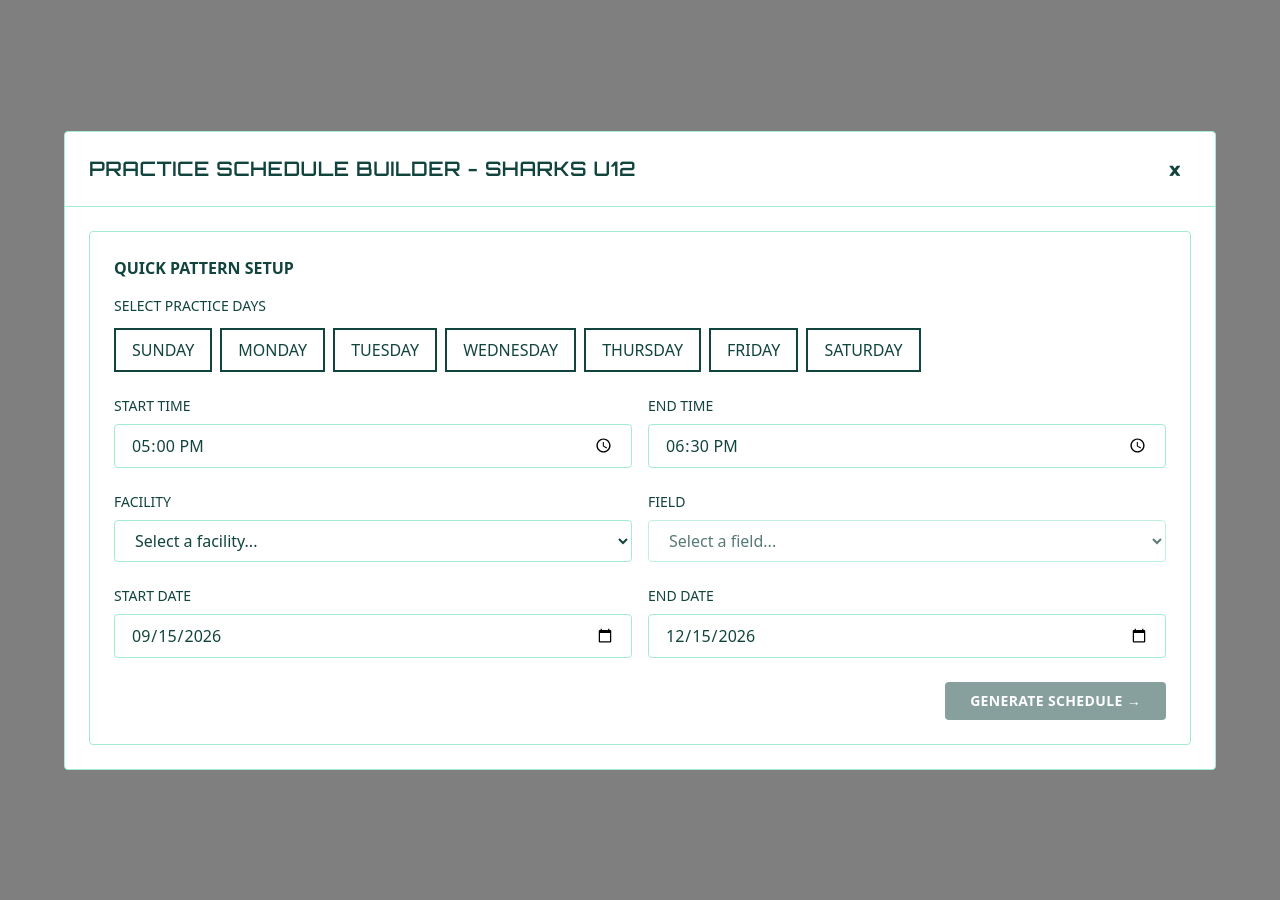
practice scheduler field picker › warns after a mismatched field is chosen, without blocking it
Step 1. Select "Ashford Park" in the dropdown "Select a facility..." below "Facility" → (373, 540), box [114,520,632,562]
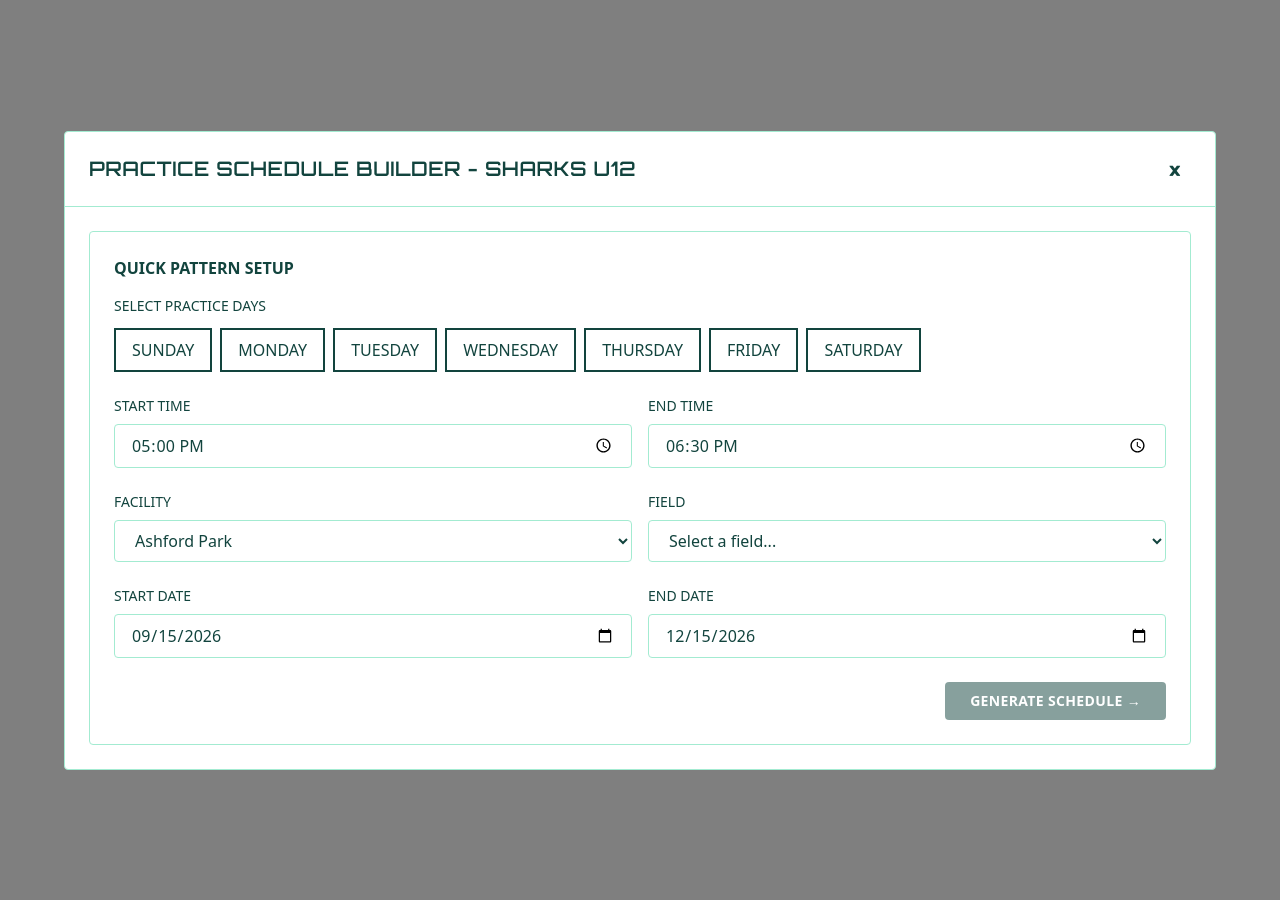
Step 2. Select "Pitch 2 (11v11)" in the dropdown "Select a field..." below "Field" → (907, 540), box [648,520,1166,562]
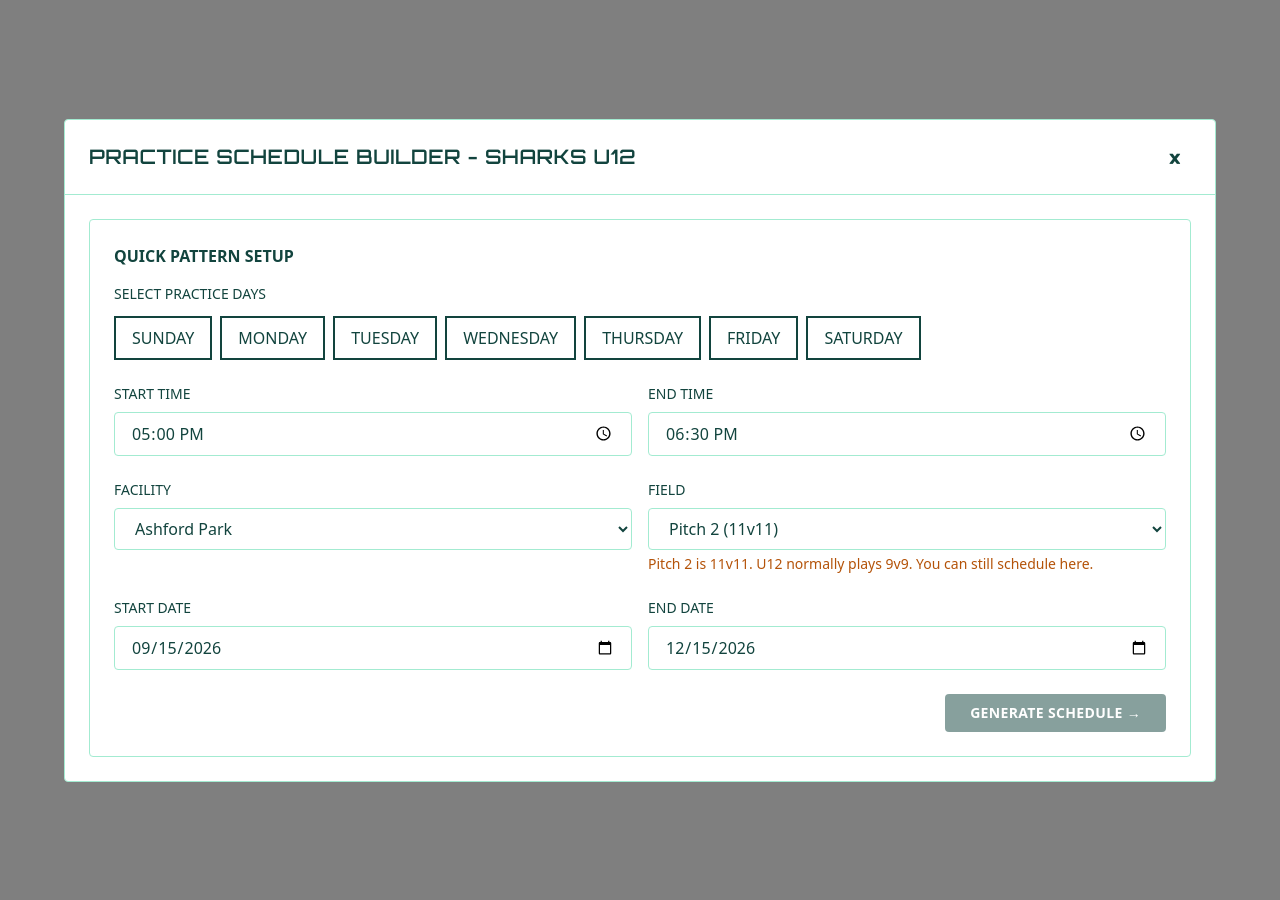
Result: the text "U12 normally plays 9v9" is shown at [648,554,1093,572]
